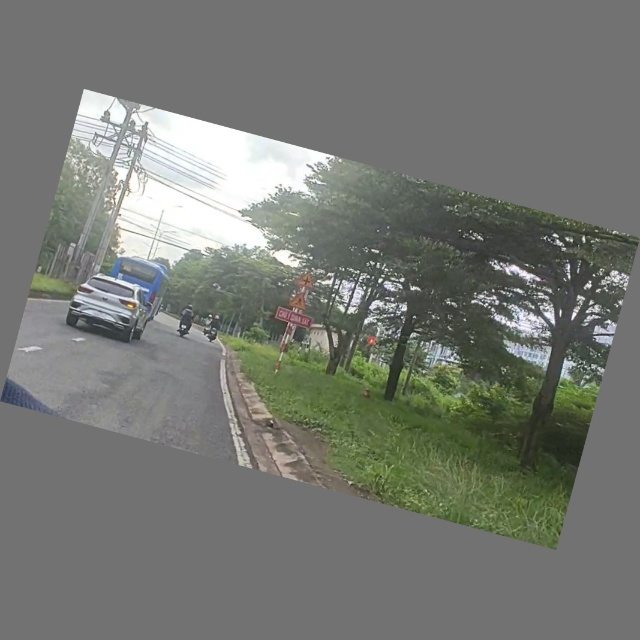W.205a: (294, 269, 319, 292)
W.224: (286, 291, 312, 312)
